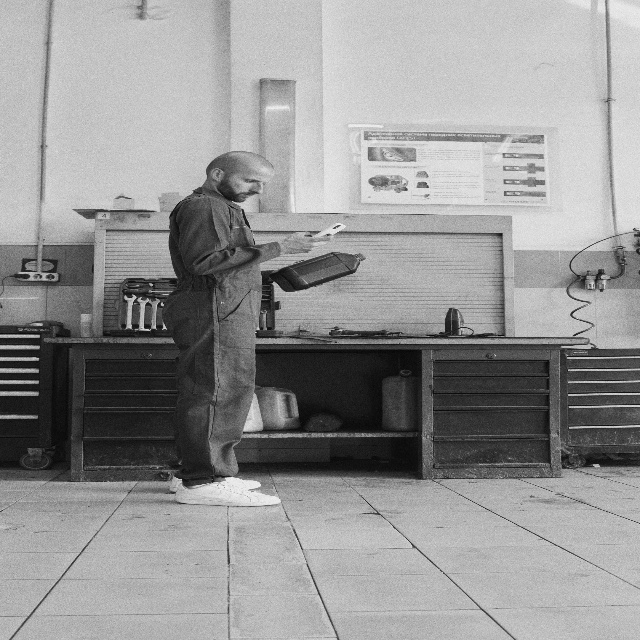Sin_guantes: (282, 231, 333, 254)
